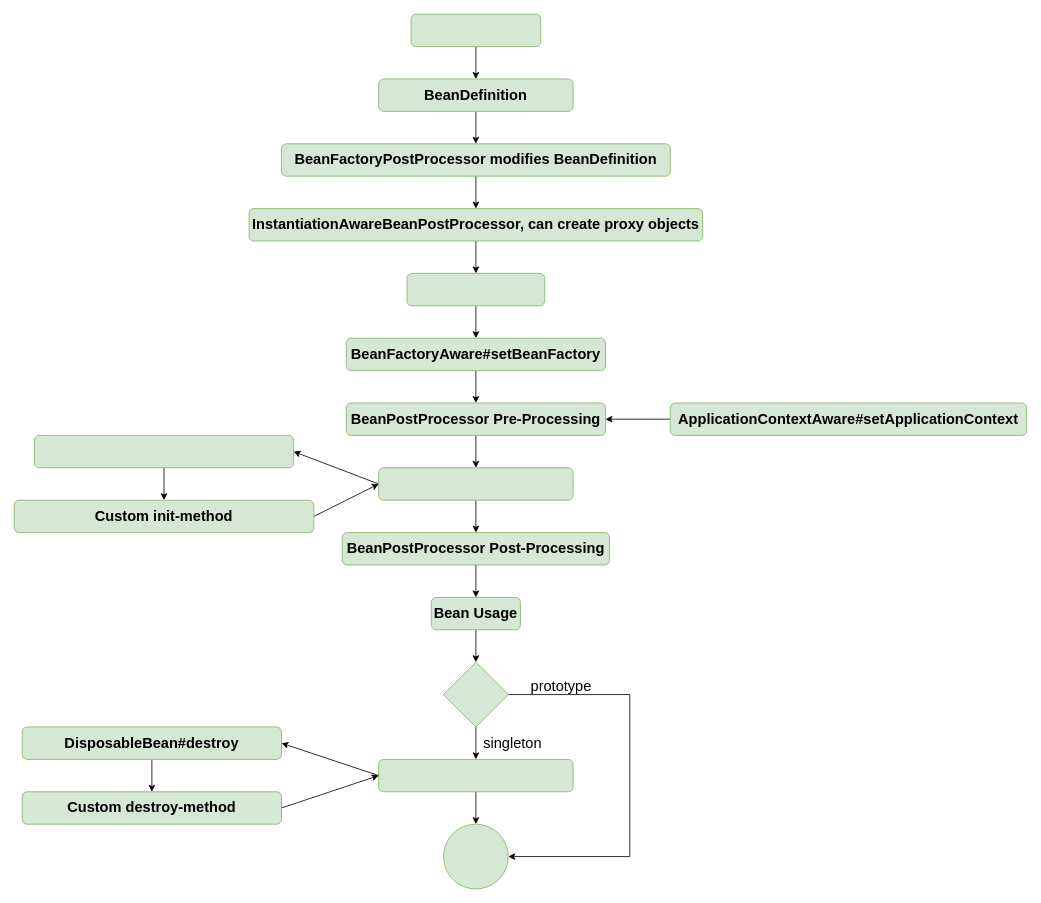
Some shapes in this 1041 by 903 pixel diagram are drawn without their labels. The shapes that lost their labels are listed below. From the top down, each one's centre as x and y in pixels, then its label:
At point (475, 30): "XML".
At point (475, 289): "Bean Instantiation".
At point (164, 451): "InitializingBean#afterPropertiesSet".
At point (475, 483): "Initialize Bean".
At point (475, 694): "scope？".
At point (475, 775): "Destroy Bean".
